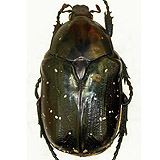Protaetia_funebris_funebris: (26, 1, 138, 160)
